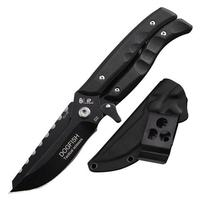knife: (7, 8, 180, 196)
